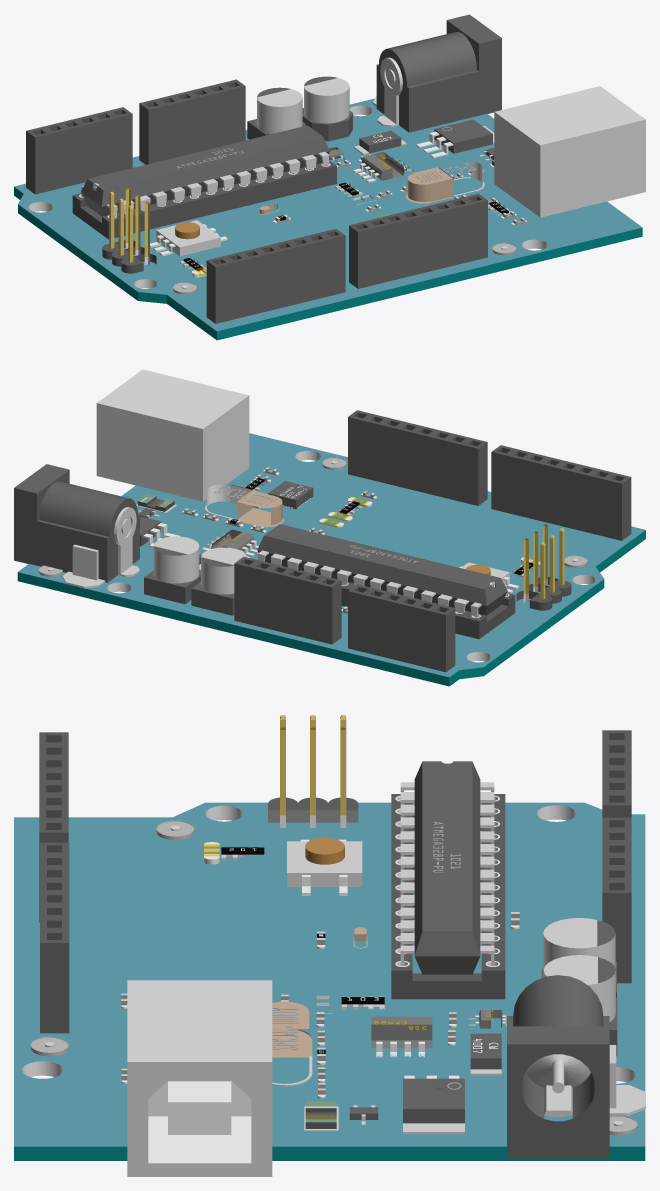
The picture shows the model from 3 angles, top to bottom: view 1: azimuth 30°, elevation 25°; view 2: azimuth 150°, elevation 25°; view 3: azimuth 270°, elevation 25°; orthographic projection. The views are drawn at different scales.
Parts seen in each view (by area): view 1: uno-GRP-67831-ArduinoUnoFront1, uno-COM-USB-CON-67769-Color_002, uno-COM-5_5-2_1mm_PCB_Barrel-67755-0136_Charbon, uno-COM-Dip28-64141-0136_Charbon, uno-COM-Socket-_100-8pin__1-63837-0136_Charbon_1, uno-COM-Socket-_100-8pin__1-63837-0136_Charbon_3, uno-GRP-67831-Color_H11, uno-COM-Socket-_100-8pin__2-62416-0136_Charbon_1, uno-COM-Socket-_100-8pin__2-62416-0136_Charbon_3, uno-COM-skt28-64139-Color_008_1, uno-COM-SMD-Electrolitic-Cap-67767-0131_Argent, uno-COM-SMD-Electrolitic-Cap-67779-0131_Argent (+12 smaller); view 2: uno-GRP-67831-ArduinoUnoFront1, uno-COM-USB-CON-67769-Color_002, uno-COM-5_5-2_1mm_PCB_Barrel-67755-0136_Charbon, uno-COM-Dip28-64141-0136_Charbon, uno-COM-Socket-_100-8pin__1-63837-0136_Charbon_3, uno-COM-Socket-_100-8pin__1-63837-0136_Charbon_1, uno-GRP-67831-Color_H11, uno-COM-Socket-_100-8pin__2-62416-0136_Charbon_3, uno-COM-Socket-_100-8pin__2-62416-0136_Charbon_1, uno-COM-SMD-Electrolitic-Cap-67767-0131_Argent, uno-COM-skt28-64139-Color_008_1, uno-COM-SMD-Electrolitic-Cap-67779-0131_Argent (+12 smaller); view 3: uno-GRP-67831-ArduinoUnoFront1, uno-COM-USB-CON-67769-Color_002, uno-COM-5_5-2_1mm_PCB_Barrel-67755-0136_Charbon, uno-COM-Dip28-64141-0136_Charbon, uno-COM-USB-CON-67769-0128_Blanc, uno-COM-skt28-64139-Color_008_1, uno-GRP-67831-Color_H11, uno-GRP-43642-0136_Charbon, uno-COM-Socket-_100-8pin__1-63837-0136_Charbon_3, uno-COM-5_5-2_1mm_PCB_Barrel-67755-0131_Argent, uno-COM-Tactile-Button-65675-0131_Argent, uno-COM-SMD-Electrolitic-Cap-67779-0131_Argent (+11 smaller).
Boxes of the visible parts, bbox=[...] form: uno-GRP-67831-ArduinoUnoFront1: bbox=[14, 98, 642, 331]; uno-COM-USB-CON-67769-Color_002: bbox=[494, 86, 645, 217]; uno-COM-5_5-2_1mm_PCB_Barrel-67755-0136_Charbon: bbox=[376, 14, 501, 132]; uno-COM-Dip28-64141-0136_Charbon: bbox=[81, 125, 329, 216]; uno-COM-Socket-_100-8pin__1-63837-0136_Charbon_1: bbox=[215, 235, 345, 323]; uno-COM-Socket-_100-8pin__1-63837-0136_Charbon_3: bbox=[358, 200, 487, 288]; uno-GRP-67831-Color_H11: bbox=[14, 187, 642, 340]; uno-COM-Socket-_100-8pin__2-62416-0136_Charbon_1: bbox=[35, 114, 132, 194]; uno-COM-Socket-_100-8pin__2-62416-0136_Charbon_3: bbox=[148, 86, 245, 163]; uno-COM-skt28-64139-Color_008_1: bbox=[72, 161, 336, 239]; uno-COM-SMD-Electrolitic-Cap-67767-0131_Argent: bbox=[304, 78, 349, 123]; uno-COM-SMD-Electrolitic-Cap-67779-0131_Argent: bbox=[257, 89, 302, 133]; uno-GRP-67831-ArduinoUnoFront1: bbox=[18, 433, 645, 677]; uno-COM-USB-CON-67769-Color_002: bbox=[96, 369, 249, 501]; uno-COM-5_5-2_1mm_PCB_Barrel-67755-0136_Charbon: bbox=[14, 464, 139, 582]; uno-COM-Dip28-64141-0136_Charbon: bbox=[257, 524, 507, 615]; uno-COM-Socket-_100-8pin__1-63837-0136_Charbon_3: bbox=[348, 417, 478, 505]; uno-COM-Socket-_100-8pin__1-63837-0136_Charbon_1: bbox=[491, 452, 621, 540]; uno-GRP-67831-Color_H11: bbox=[17, 530, 645, 686]; uno-COM-Socket-_100-8pin__2-62416-0136_Charbon_3: bbox=[234, 563, 332, 644]; uno-COM-Socket-_100-8pin__2-62416-0136_Charbon_1: bbox=[348, 591, 445, 672]; uno-COM-SMD-Electrolitic-Cap-67767-0131_Argent: bbox=[153, 536, 199, 583]; uno-COM-skt28-64139-Color_008_1: bbox=[265, 561, 515, 639]; uno-COM-SMD-Electrolitic-Cap-67779-0131_Argent: bbox=[201, 547, 246, 594]; uno-GRP-67831-ArduinoUnoFront1: bbox=[14, 802, 645, 1146]; uno-COM-USB-CON-67769-Color_002: bbox=[127, 980, 272, 1176]; uno-COM-5_5-2_1mm_PCB_Barrel-67755-0136_Charbon: bbox=[507, 975, 609, 1158]; uno-COM-Dip28-64141-0136_Charbon: bbox=[414, 761, 480, 974]; uno-COM-USB-CON-67769-0128_Blanc: bbox=[148, 1081, 251, 1163]; uno-COM-skt28-64139-Color_008_1: bbox=[391, 794, 505, 999]; uno-GRP-67831-Color_H11: bbox=[14, 1146, 645, 1160]; uno-GRP-43642-0136_Charbon: bbox=[403, 1078, 464, 1123]; uno-COM-Socket-_100-8pin__1-63837-0136_Charbon_3: bbox=[40, 943, 69, 1033]; uno-COM-5_5-2_1mm_PCB_Barrel-67755-0131_Argent: bbox=[525, 1054, 590, 1117]; uno-COM-Tactile-Button-65675-0131_Argent: bbox=[287, 841, 362, 886]; uno-COM-SMD-Electrolitic-Cap-67779-0131_Argent: bbox=[543, 918, 615, 977].
Bounding box in the file's own units: 0.1107 × 0.0209 × 0.0791.
